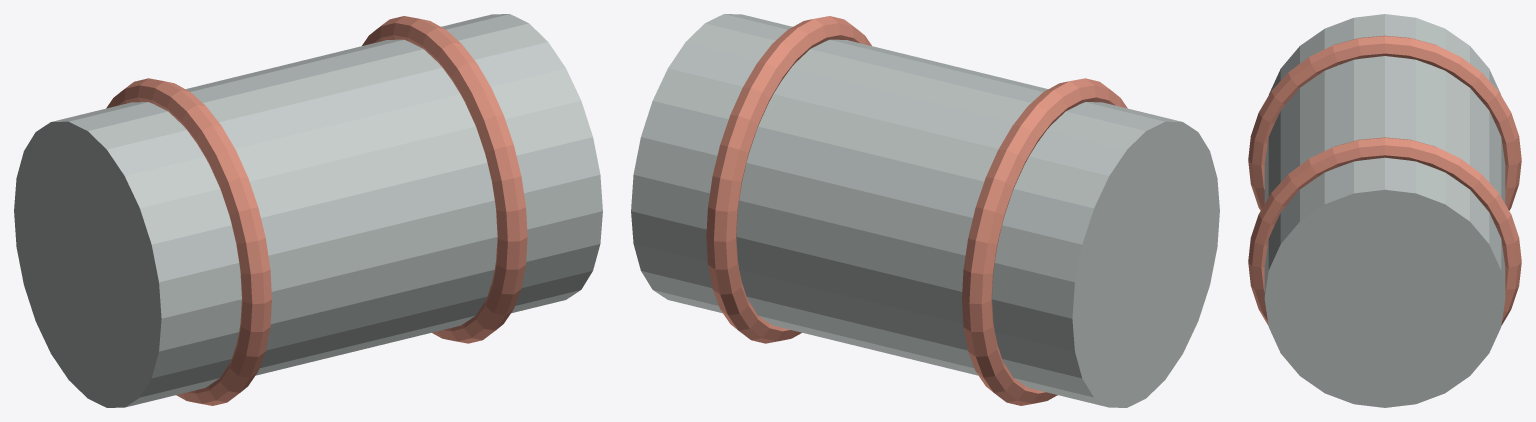
3 views of the same model, side by side, from view 1: azimuth 30°, elevation 25°; view 2: azimuth 150°, elevation 25°; view 3: azimuth 270°, elevation 25° (orthographic). The views are drawn at different scales.
Parts seen in each view (by area): view 1: foil blanket roll, retaining band, retaining band.001; view 2: foil blanket roll, retaining band, retaining band.001; view 3: foil blanket roll, retaining band.001, retaining band.
Boxes of the visible parts, x1,y1,x2,y2 form: foil blanket roll: (14, 14, 602, 407); retaining band: (106, 78, 271, 405); retaining band.001: (362, 16, 527, 343); foil blanket roll: (631, 14, 1219, 407); retaining band: (962, 78, 1127, 405); retaining band.001: (706, 16, 871, 343); foil blanket roll: (1264, 14, 1505, 407); retaining band.001: (1248, 137, 1521, 325); retaining band: (1248, 35, 1521, 210).
Bounding box in the file's own units: 0.38 × 0.25 × 0.25.
